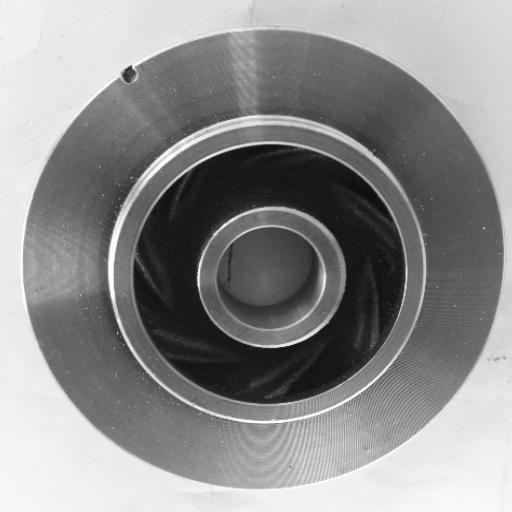pit: (112, 61, 148, 91)
unpolished_casting: (23, 26, 506, 495)
